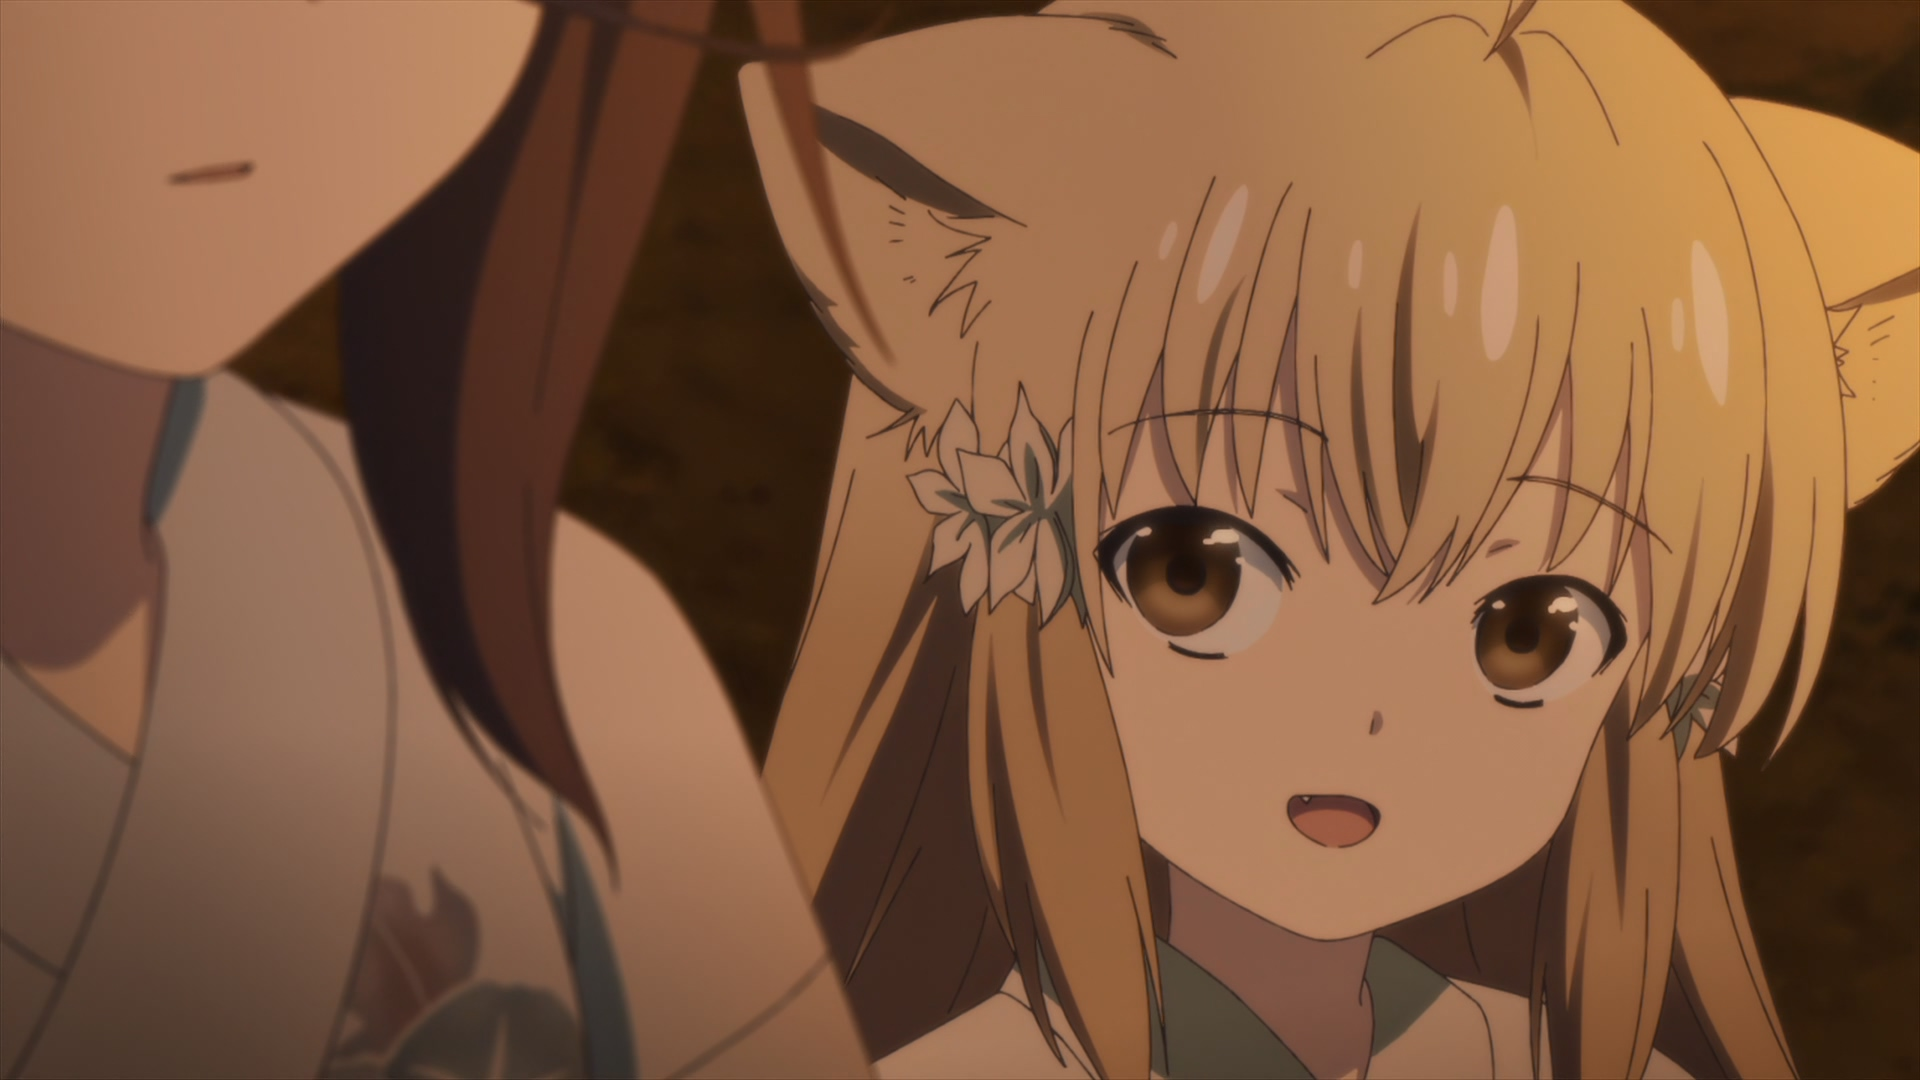柚: (738, 1, 1920, 1080)
皋: (1, 1, 870, 1080)
